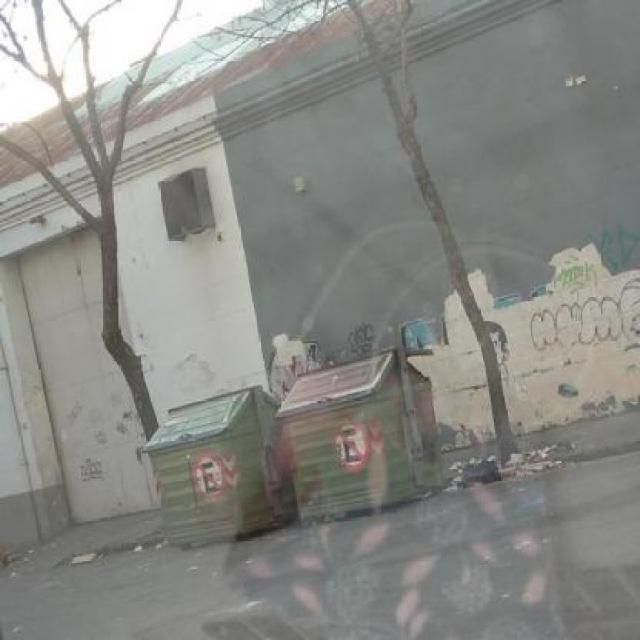garbage: (438, 439, 574, 494)
